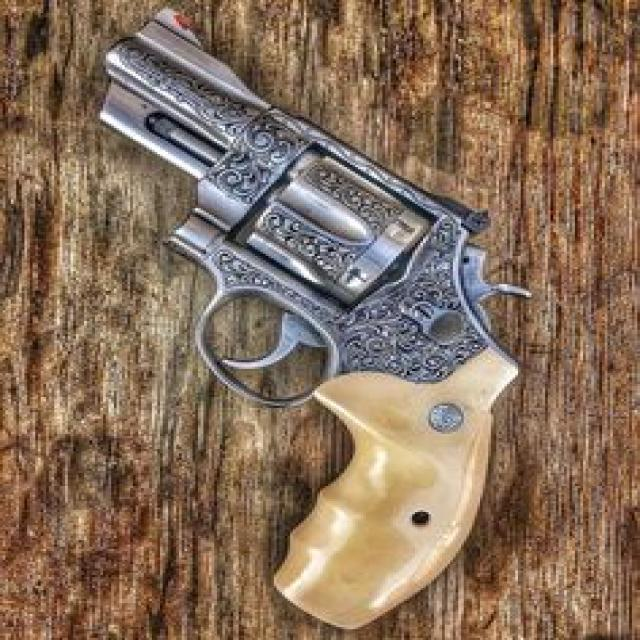revolver: (46, 2, 570, 632)
